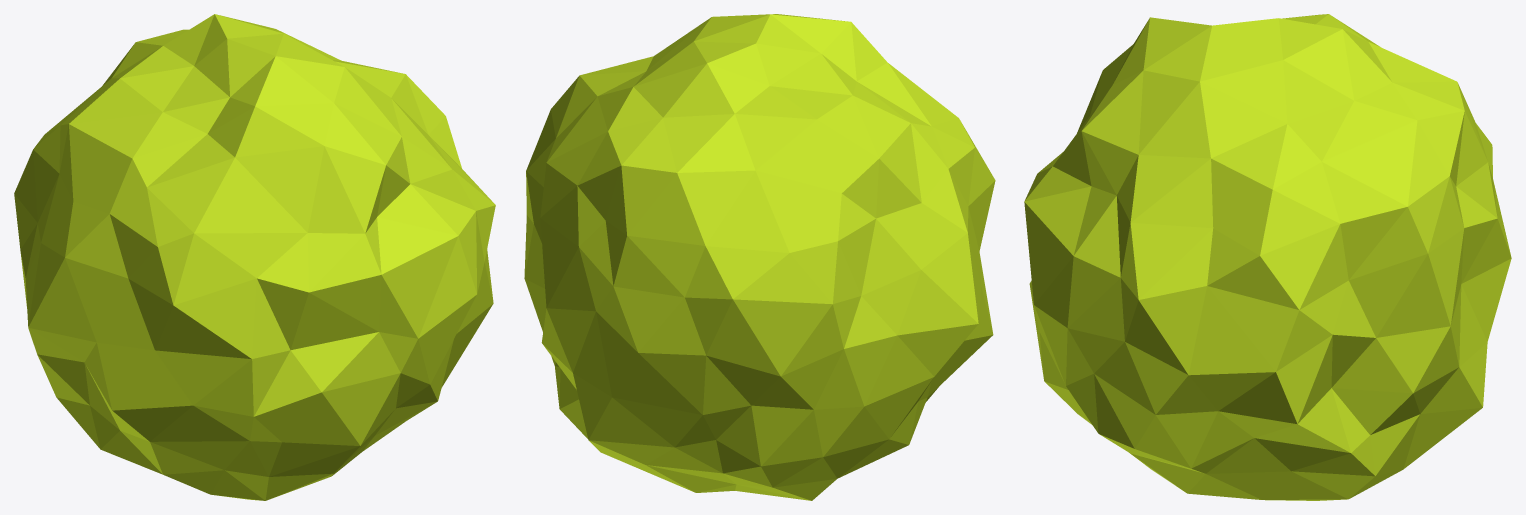
File: treeBush.gltf
The picture shows the model from 3 angles, left to right: view 1: azimuth 30°, elevation 25°; view 2: azimuth 150°, elevation 25°; view 3: azimuth 270°, elevation 25°; orthographic projection. The views are drawn at different scales.
Visible parts, largest first — view 1: Icosphere; view 2: Icosphere; view 3: Icosphere.
Part boxes in pixels (x1,y1,x2,y2): Icosphere: (14, 14, 495, 500); Icosphere: (524, 14, 995, 500); Icosphere: (1024, 14, 1511, 500).
Bounding box in the file's own units: 3.9 × 3.66 × 3.58.
